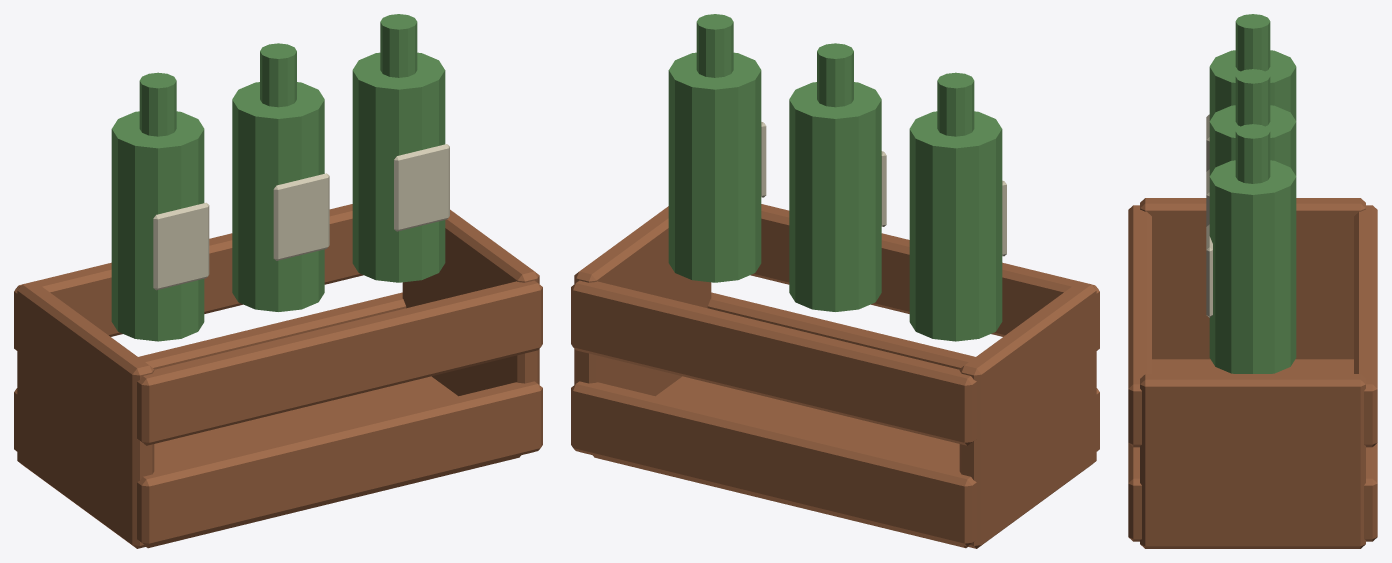
File: bottles.glb
The picture shows the model from 3 angles, left to right: view 1: azimuth 30°, elevation 25°; view 2: azimuth 150°, elevation 25°; view 3: azimuth 270°, elevation 25°; orthographic projection. The views are drawn at different scales.
Parts seen in each view (by area): view 1: Base, Target0, Target2, Target1; view 2: Base, Target2, Target0, Target1; view 3: Base, Target2, Target0, Target1.
Part boxes in pixels (left/top/right/bottom): Base: left=14, top=204, right=542, bottom=548; Target0: left=111, top=72, right=209, bottom=341; Target2: left=352, top=14, right=449, bottom=282; Target1: left=232, top=43, right=329, bottom=311; Base: left=571, top=204, right=1099, bottom=548; Target2: left=668, top=14, right=766, bottom=282; Target0: left=909, top=72, right=1006, bottom=341; Target1: left=789, top=43, right=886, bottom=311; Base: left=1128, top=198, right=1377, bottom=548; Target2: left=1206, top=124, right=1296, bottom=373; Target0: left=1206, top=14, right=1296, bottom=171; Target1: left=1206, top=69, right=1296, bottom=226.
Size of the model in its own units: 1.01 by 0.98 by 0.575.
